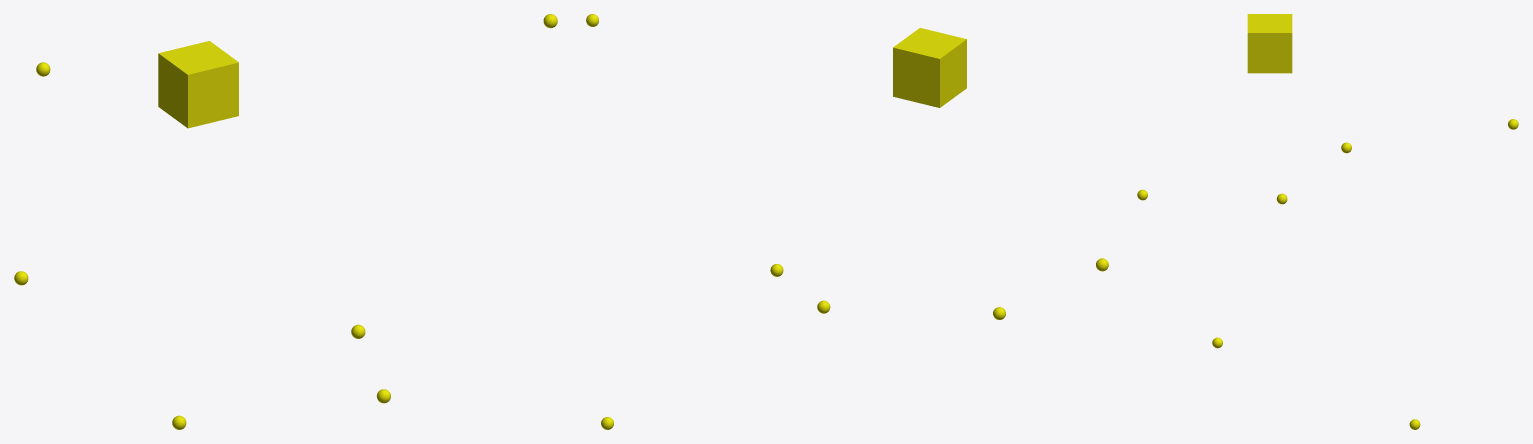
3 renders of one model, left to right at view 1: azimuth 30°, elevation 25°; view 2: azimuth 150°, elevation 25°; view 3: azimuth 270°, elevation 25°, orthographic. The views are drawn at different scales.
Visible parts, largest first — view 1: Cube; view 2: Cube; view 3: Cube.
Part boxes in pixels (bbox=[...]): Cube: bbox=[158, 41, 238, 128]; Cube: bbox=[893, 28, 966, 107]; Cube: bbox=[1247, 14, 1292, 73].
Size of the model in its own units: 4.29 by 3.4 by 3.76.
